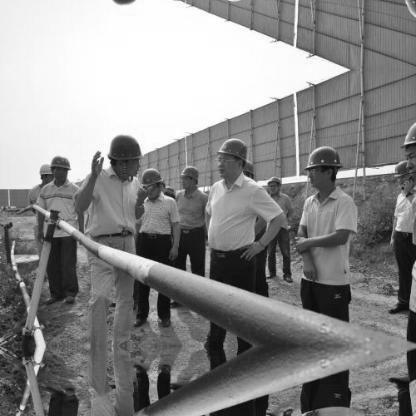helmet: (108, 131, 145, 180), (305, 141, 342, 190), (215, 136, 250, 179), (398, 119, 414, 178), (140, 165, 164, 195), (49, 154, 71, 183), (395, 154, 411, 193), (181, 163, 202, 192), (36, 161, 51, 185), (265, 175, 282, 196), (398, 0, 415, 20)
